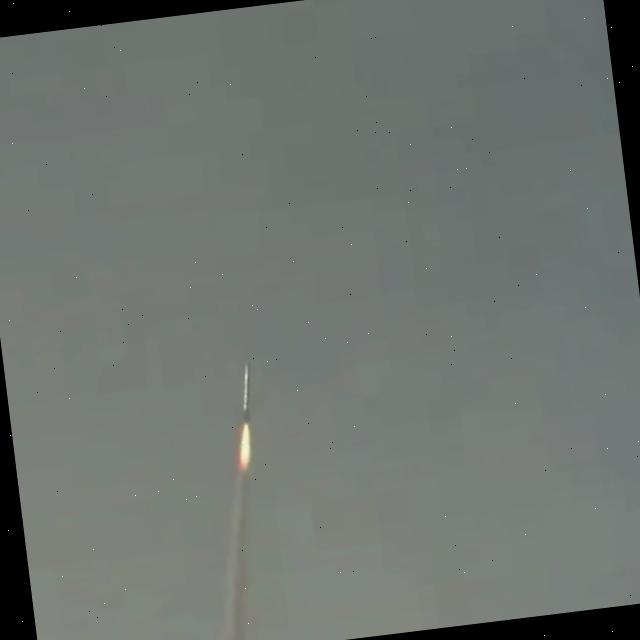smoke_trail_with_rocket: (219, 362, 253, 640)
